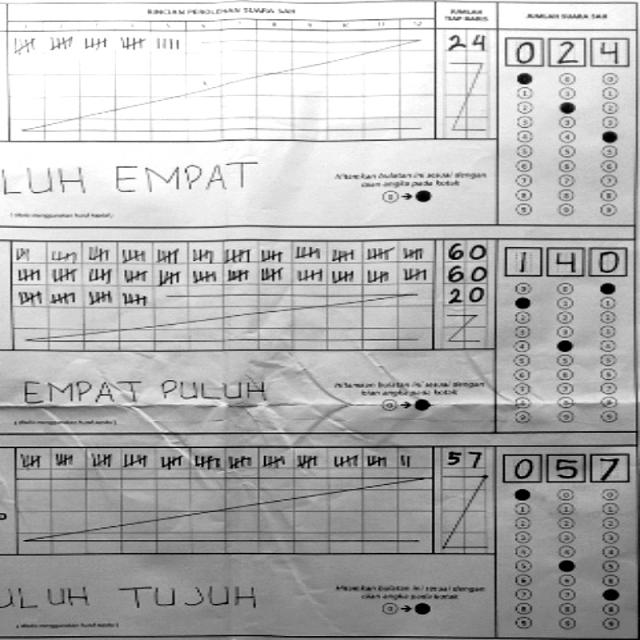Suara: (498, 239, 631, 280), (499, 29, 632, 69), (498, 446, 631, 484)
